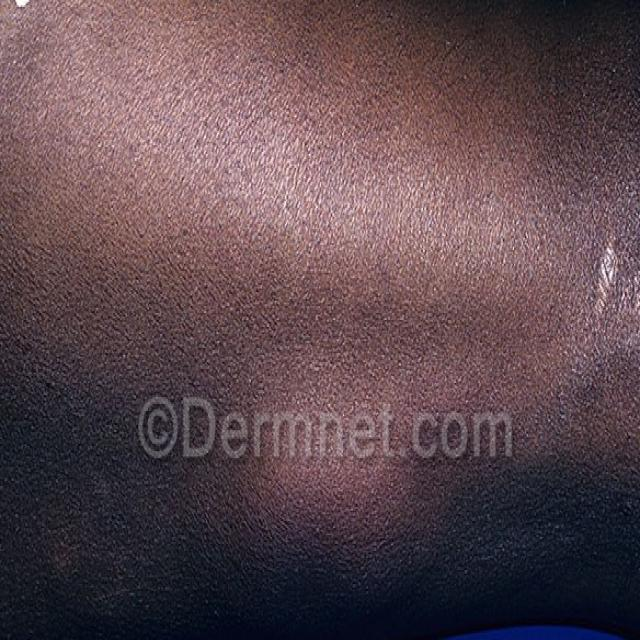Vascular Tumors: (207, 326, 493, 600)
